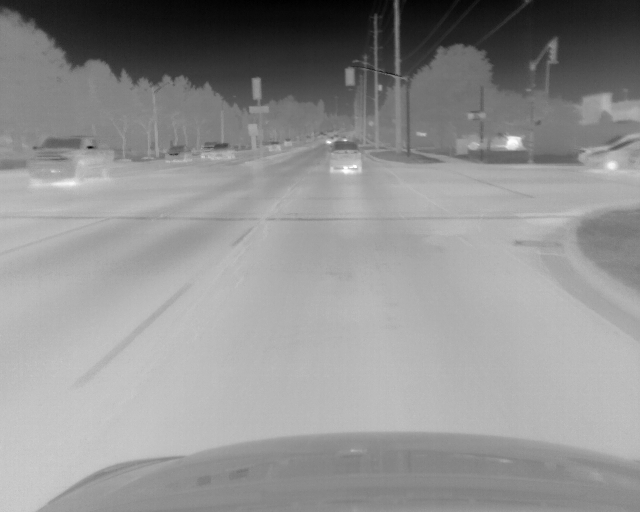car: (25, 133, 114, 183), (578, 132, 640, 165), (588, 141, 640, 170), (329, 141, 362, 174), (163, 145, 192, 164), (209, 144, 235, 159), (628, 147, 640, 170), (201, 142, 215, 156)
